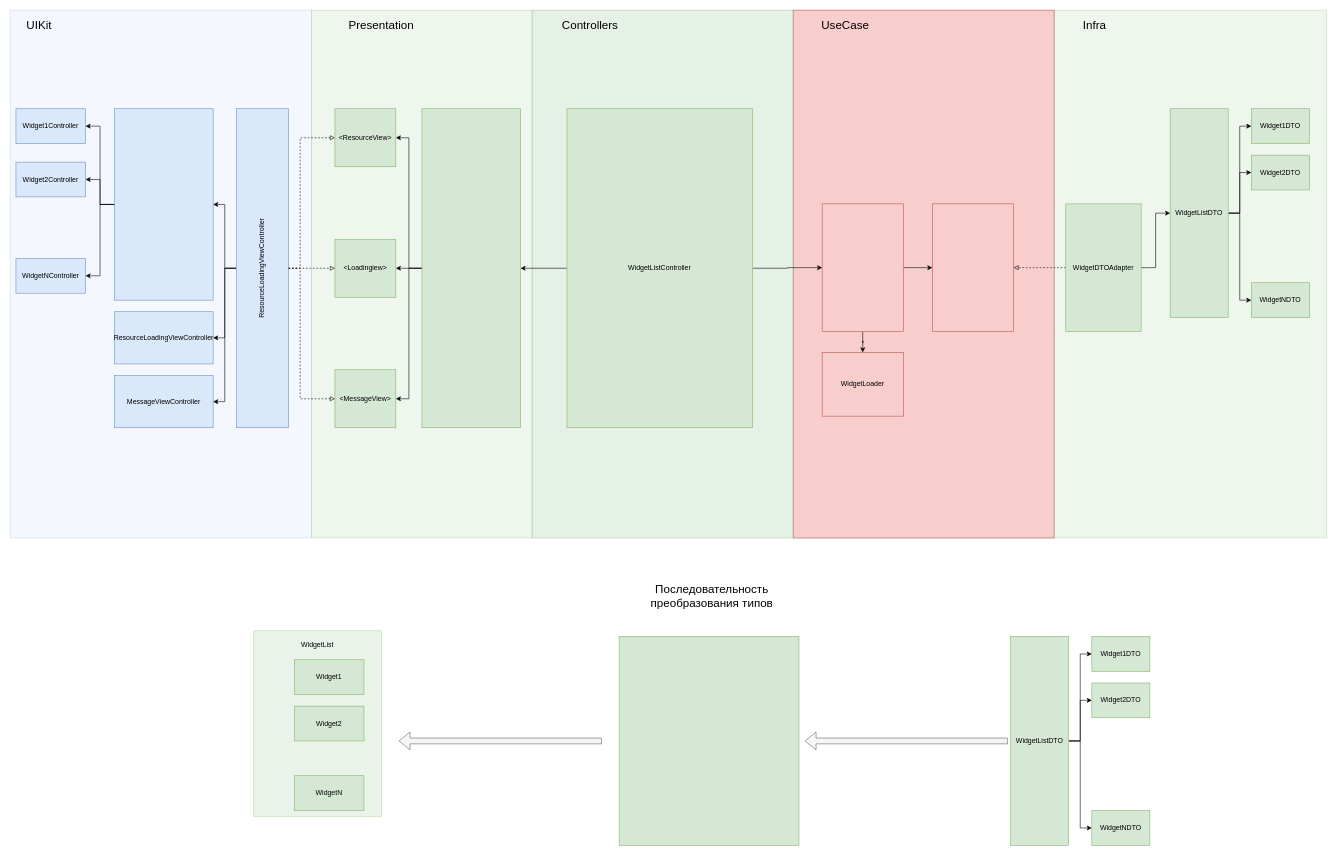
Some shapes in this 1337 by 856 pixel diagram are drawn without their labels. The shapes that lost their labels are listed below. From the top down, each one's box as (x1, y1, x2, y2) in pixels, then its label:
(114, 108, 213, 300): WidgetListViewController
(421, 108, 521, 428): ResourceLoadingPresenter
(822, 203, 903, 331): WidgetListLoader
(932, 203, 1014, 331): <WidgetDTOLoader>
(619, 636, 799, 845): WidgetLoader Инстанцирует виджет и асинхронно его конфигурирует.
